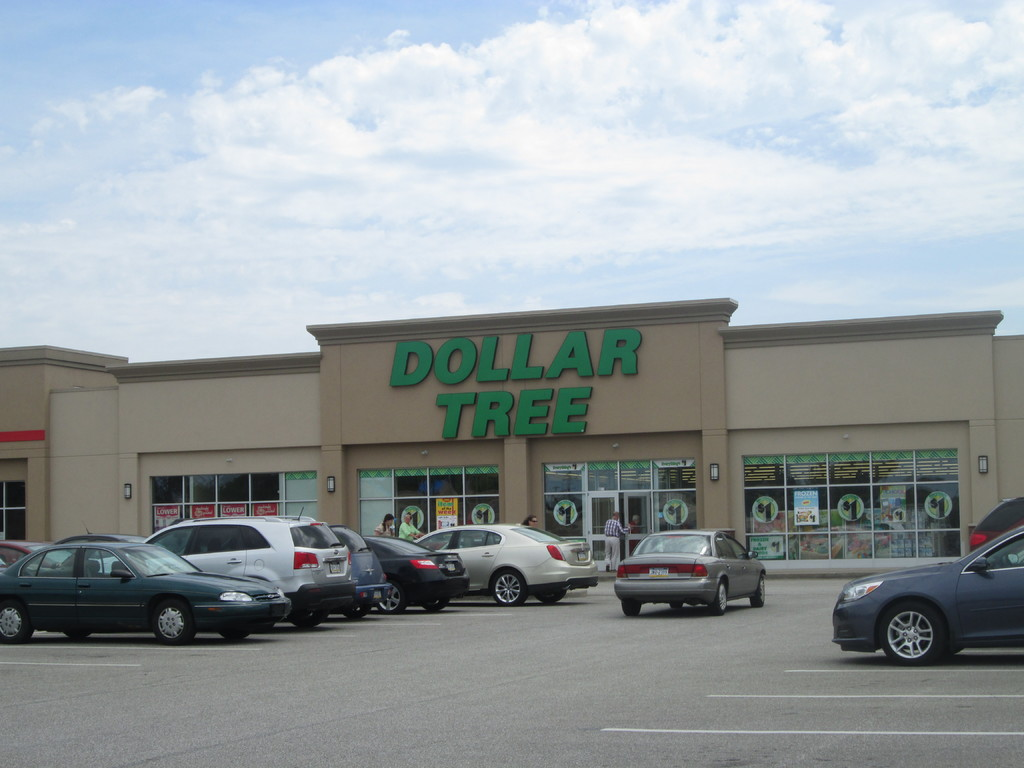mobil: (826, 521, 1024, 686), (1, 539, 293, 643), (613, 528, 770, 624)
